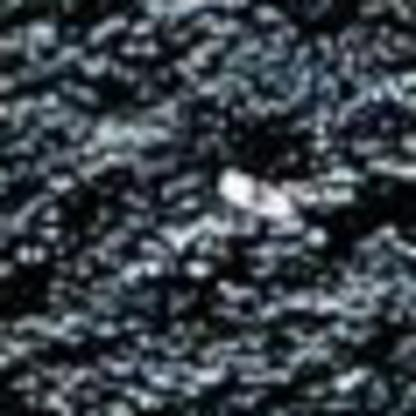ship: (209, 158, 300, 224)
